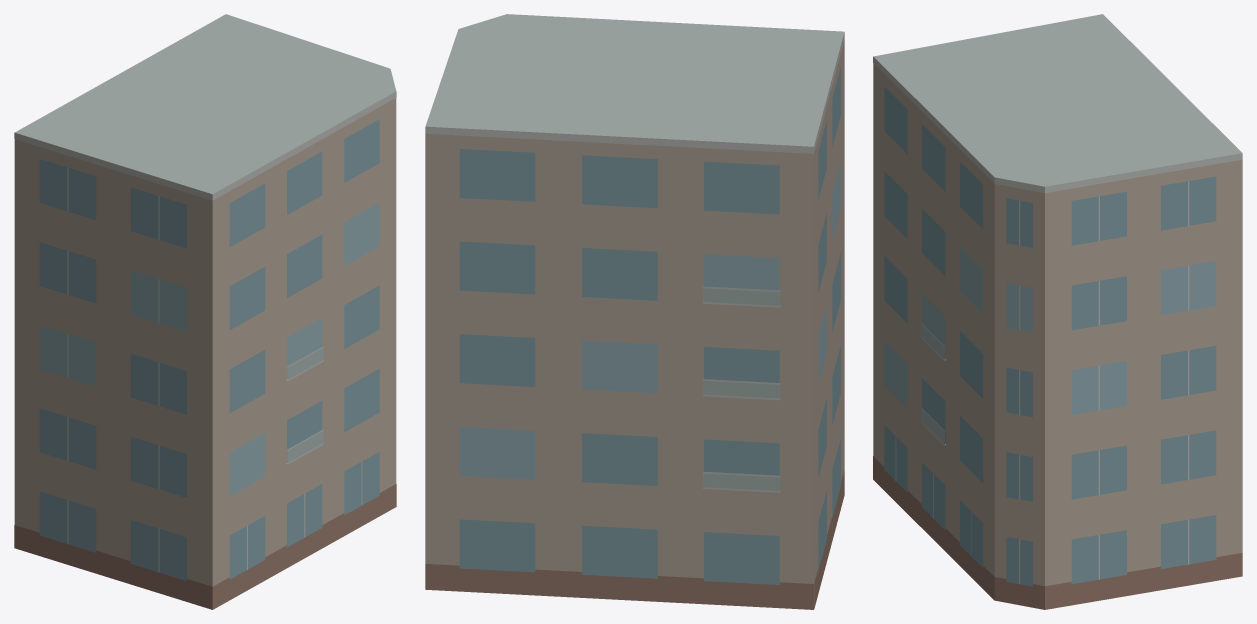
The model's file is survey-upis-32968893.glb.
3 views of the same model, side by side, from view 1: azimuth 30°, elevation 25°; view 2: azimuth 150°, elevation 25°; view 3: azimuth 270°, elevation 25° (orthographic). The views are drawn at different scales.
Parts seen in each view (by area): view 1: survey-upis-32968893.tmp; view 2: survey-upis-32968893.tmp; view 3: survey-upis-32968893.tmp.
Part boxes in pixels (x1,y1,x2,y2): survey-upis-32968893.tmp: [14, 14, 396, 609]; survey-upis-32968893.tmp: [425, 14, 844, 609]; survey-upis-32968893.tmp: [873, 14, 1242, 609].
Bounding box in the file's own units: 13.93 × 15.9 × 12.59.
